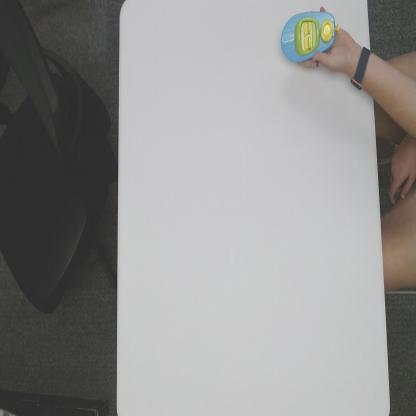Boat: (280, 8, 340, 66)
Hand: (301, 6, 351, 72)
